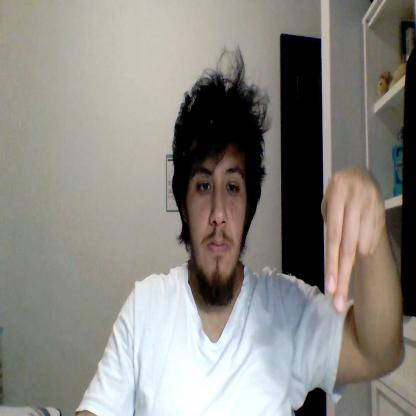N: (321, 166, 386, 312)
